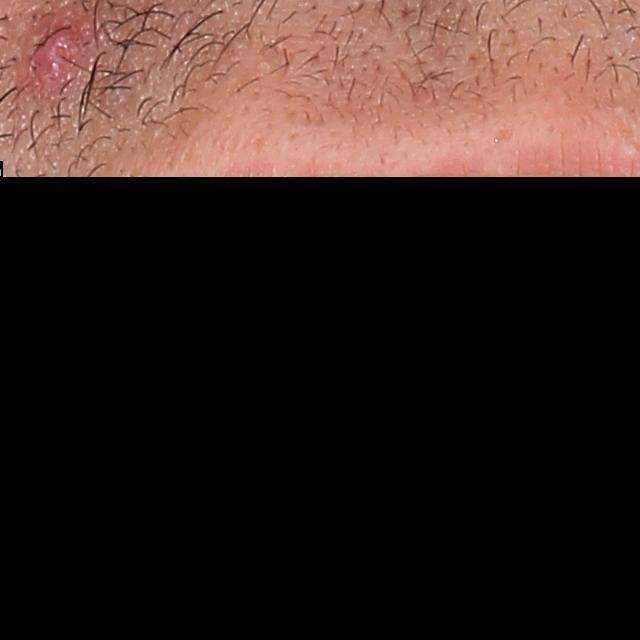papule: (28, 15, 92, 98)
